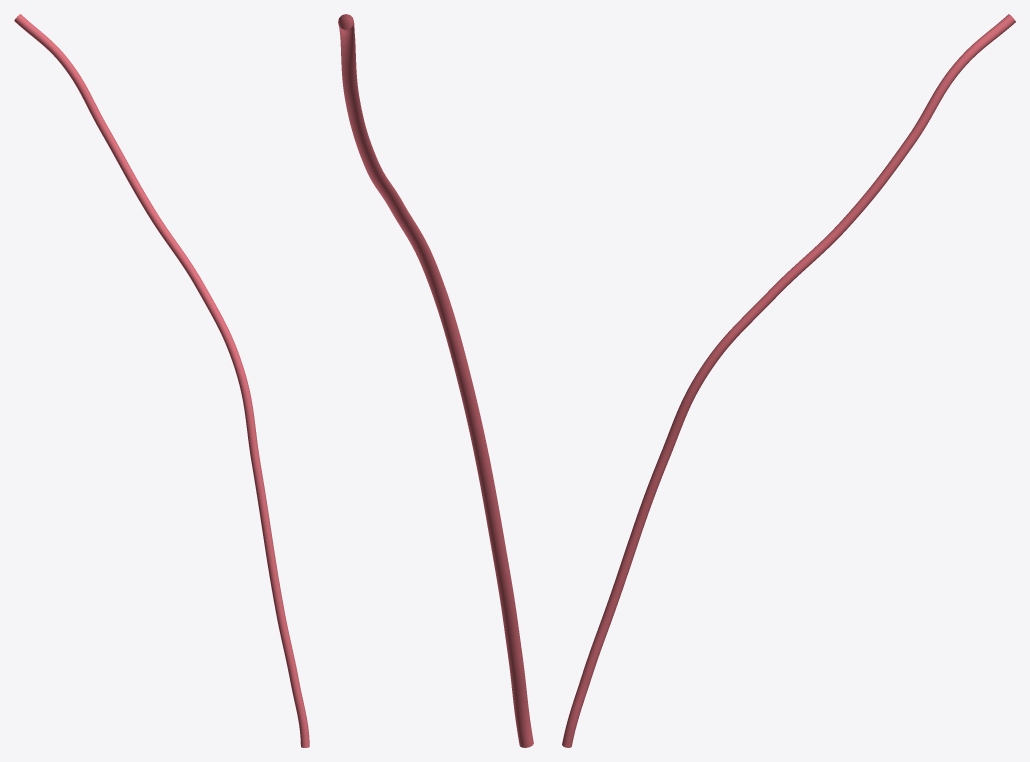
3 renders of one model, left to right at view 1: azimuth 30°, elevation 25°; view 2: azimuth 150°, elevation 25°; view 3: azimuth 270°, elevation 25°, orthographic. The views are drawn at different scales.
Parts seen in each view (by area): view 1: ZA_d66f8ed4fea42de1; view 2: ZA_d66f8ed4fea42de1; view 3: ZA_d66f8ed4fea42de1.
Boxes of the visible parts, x1=… form: ZA_d66f8ed4fea42de1: x1=14, y1=14, x2=309, y2=747; ZA_d66f8ed4fea42de1: x1=338, y1=14, x2=533, y2=747; ZA_d66f8ed4fea42de1: x1=562, y1=14, x2=1015, y2=747.
Bounding box in the file's own units: 0.0288 × 0.1727 × 0.1039.
